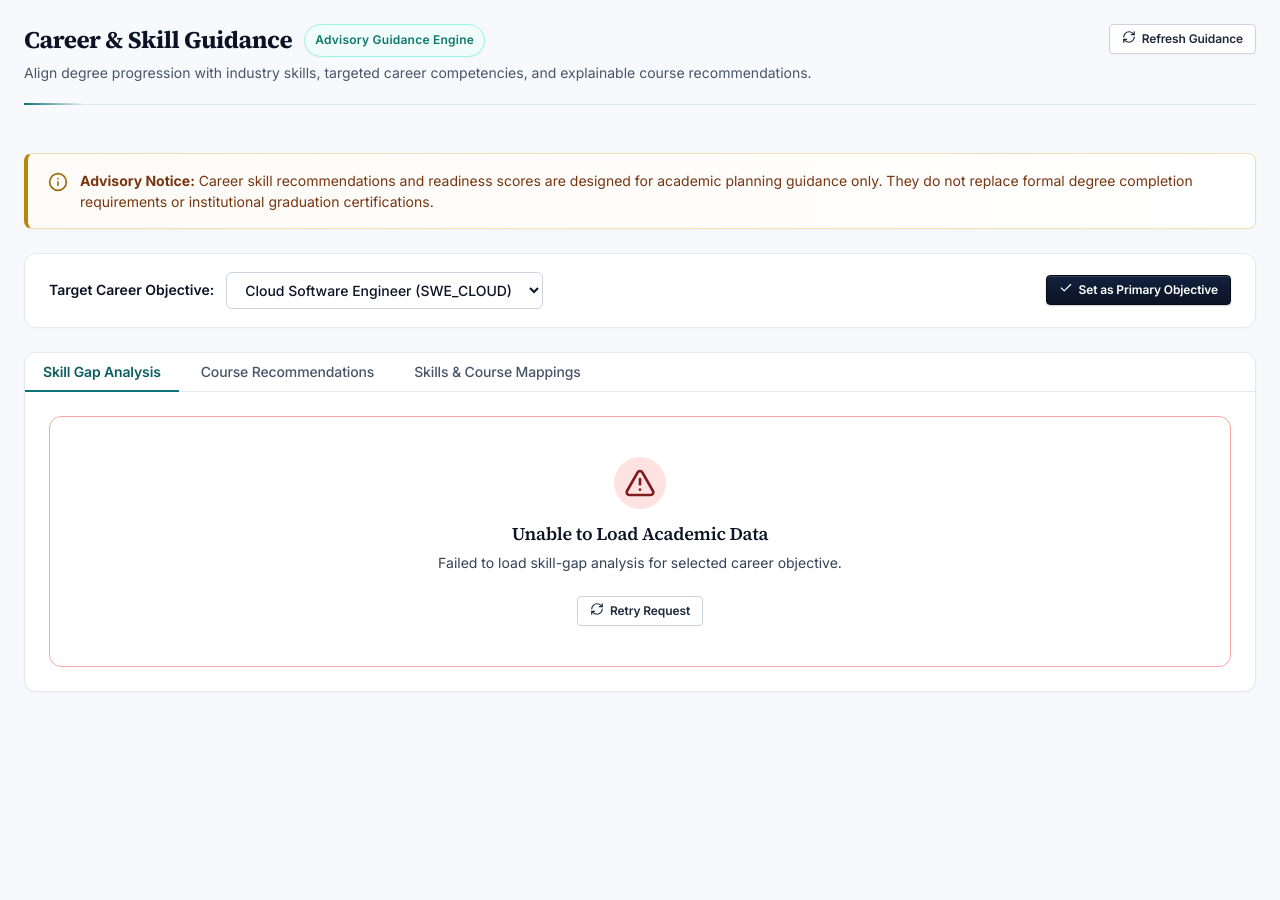
Test case: CareerGuidancePage › handles skill gap loading error with retry button
Expected: the text "Failed to load skill-gap analysis for selected career objective" is shown, [438, 554, 842, 571]
Step 1. Click the button "Retry Request" → (640, 611), box [577, 596, 703, 626]
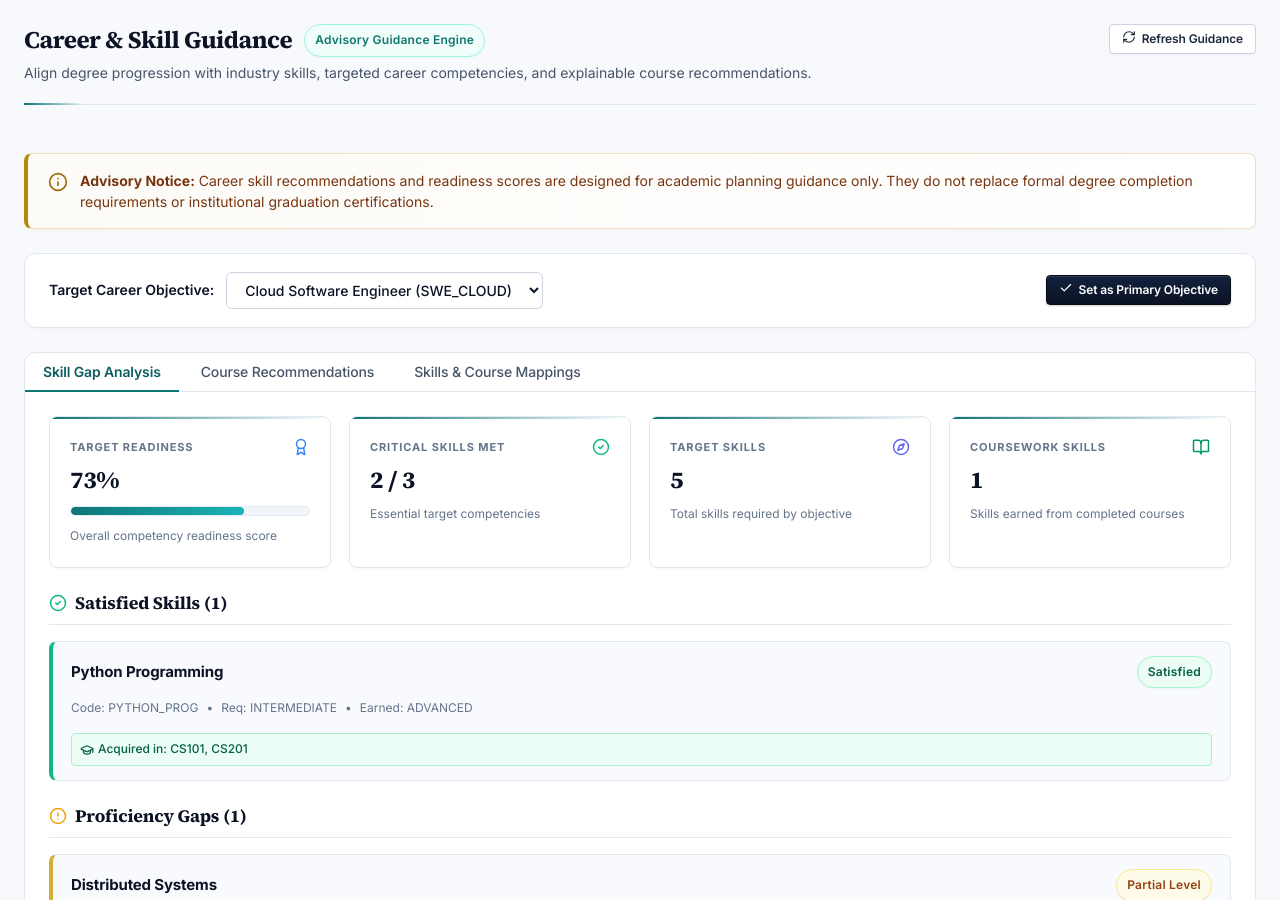
Expected: the text "73%" is shown, [70, 463, 119, 496]
